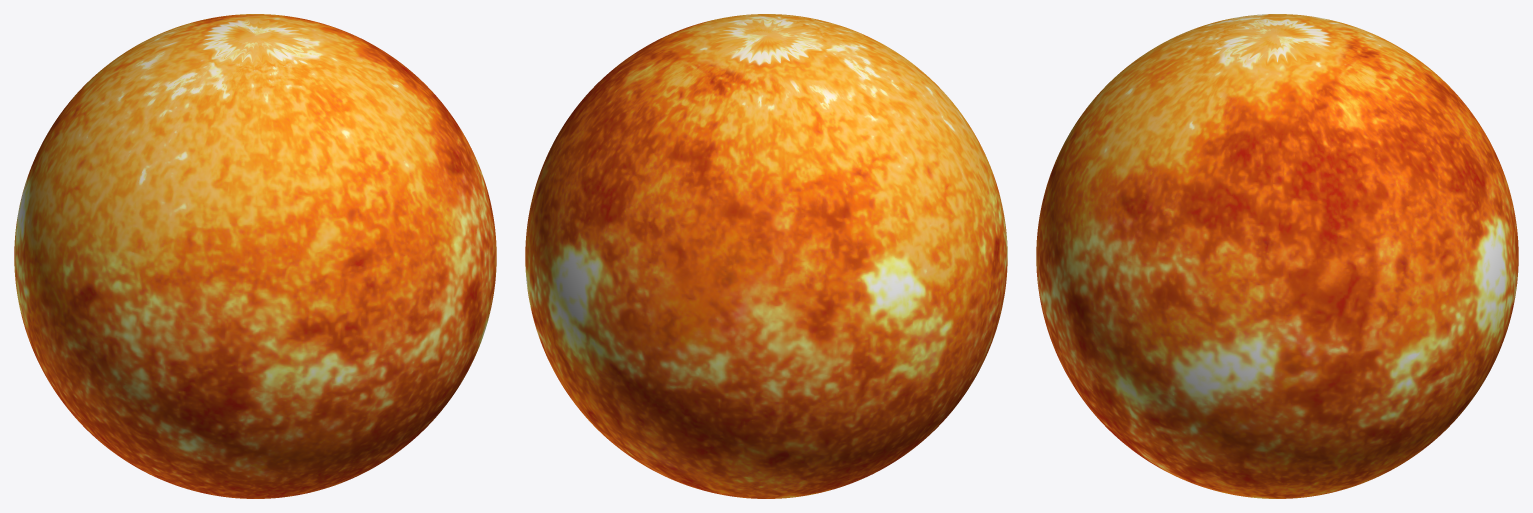
File: sun.gltf
3 renders of one model, left to right at view 1: azimuth 30°, elevation 25°; view 2: azimuth 150°, elevation 25°; view 3: azimuth 270°, elevation 25°, orthographic.
Visible parts, largest first — view 1: Sphere_2; view 2: Sphere_2; view 3: Sphere_2.
Part boxes in pixels (bbox=[...]): Sphere_2: bbox=[14, 14, 496, 498]; Sphere_2: bbox=[525, 14, 1007, 498]; Sphere_2: bbox=[1036, 14, 1518, 498].
Bounding box in the file's own units: 1.25 × 1.26 × 1.25.
1 material, 1 textured.
